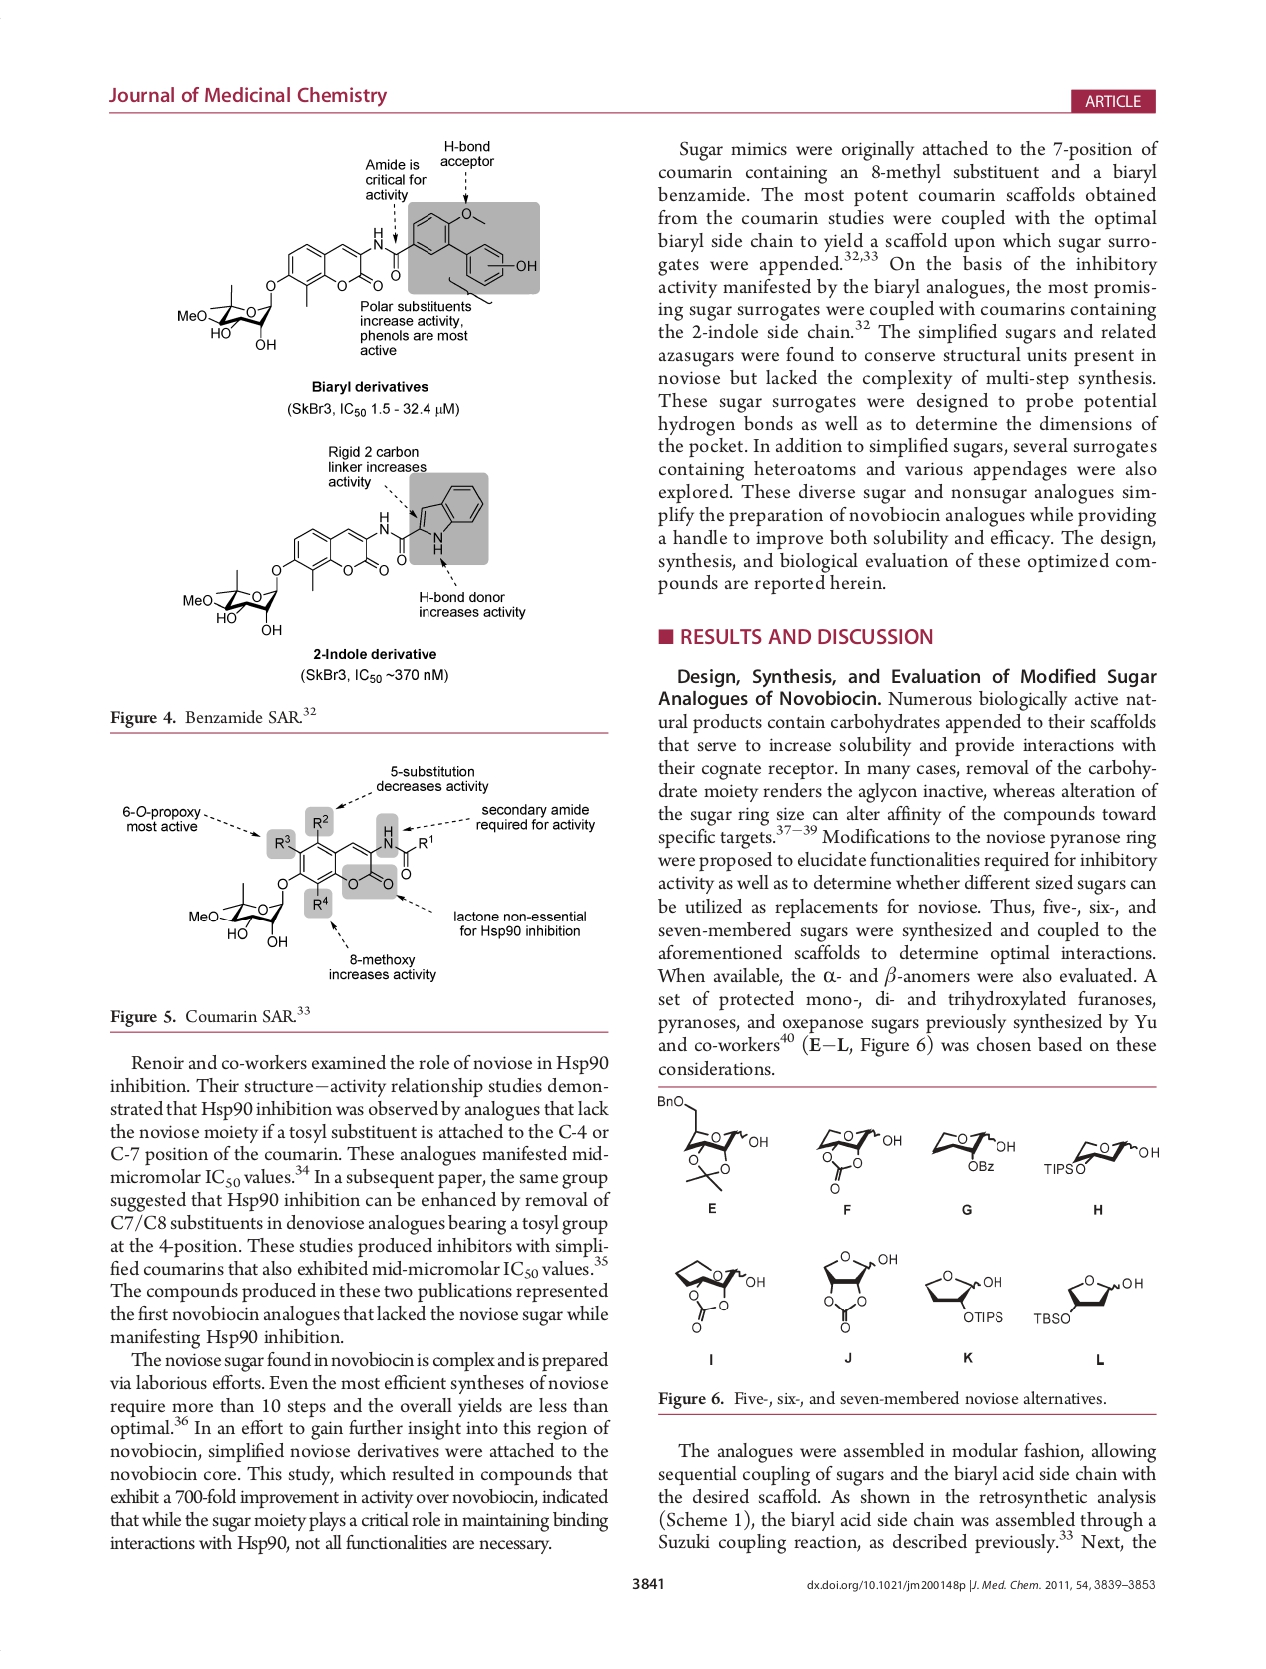exist_molecular: (176, 206, 539, 352), (180, 481, 485, 638), (185, 813, 435, 948), (653, 1091, 771, 1196), (672, 1255, 769, 1338), (818, 1246, 899, 1337), (811, 1126, 903, 1196), (1032, 1271, 1146, 1326), (1040, 1137, 1162, 1184), (922, 1266, 1005, 1327), (930, 1130, 1017, 1176)
